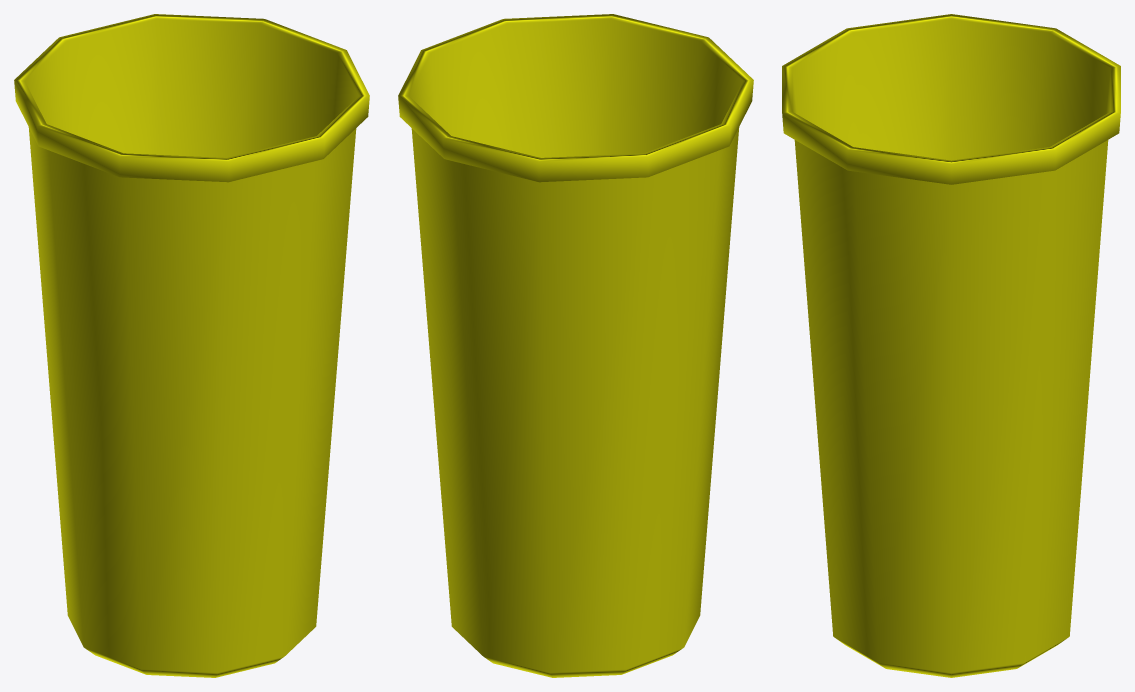
File: cup3.fbx
The picture shows the model from 3 angles, left to right: view 1: azimuth 30°, elevation 25°; view 2: azimuth 150°, elevation 25°; view 3: azimuth 270°, elevation 25°; orthographic projection.
Parts seen in each view (by area): view 1: envasset_cup1; view 2: envasset_cup1; view 3: envasset_cup1.
Boxes of the visible parts, x1,y1,x2,y2 form: envasset_cup1: (14, 14, 369, 677); envasset_cup1: (398, 14, 753, 677); envasset_cup1: (782, 14, 1120, 677).
Size of the model in its own units: 0.746 by 1.25 by 0.7094.
